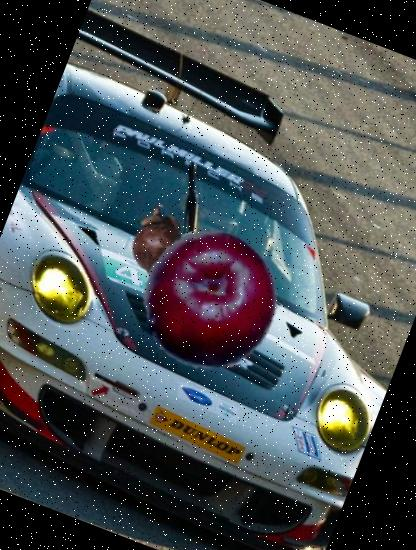Mangostan: (114, 196, 203, 285)
Plum: (119, 209, 300, 391)
